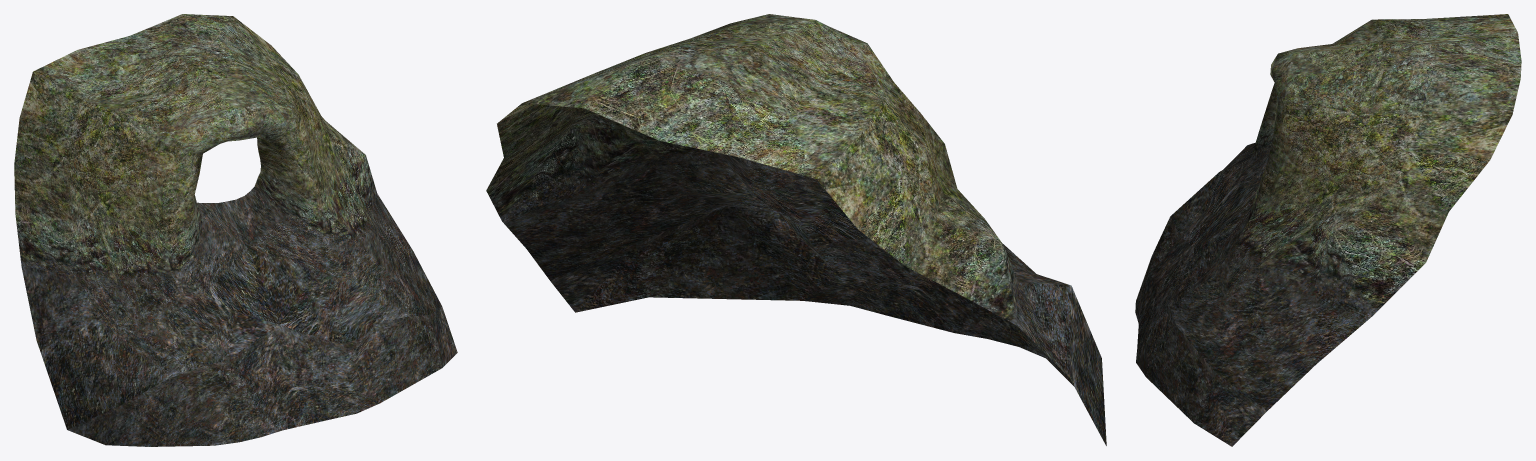
File: thm_all_cave_s02_damprock_mirror_r0_mesh_l2.fbx
The picture shows the model from 3 angles, left to right: view 1: azimuth 30°, elevation 25°; view 2: azimuth 150°, elevation 25°; view 3: azimuth 270°, elevation 25°; orthographic projection. The views are drawn at different scales.
Visible parts, largest first — view 1: mesh_node; view 2: mesh_node; view 3: mesh_node.
Boxes of the visible parts, x1,y1,x2,y2 form: mesh_node: (14, 14, 457, 446); mesh_node: (486, 14, 1106, 445); mesh_node: (1135, 14, 1521, 446).
Bounding box in the file's own units: 48.32 × 34.16 × 39.34.
